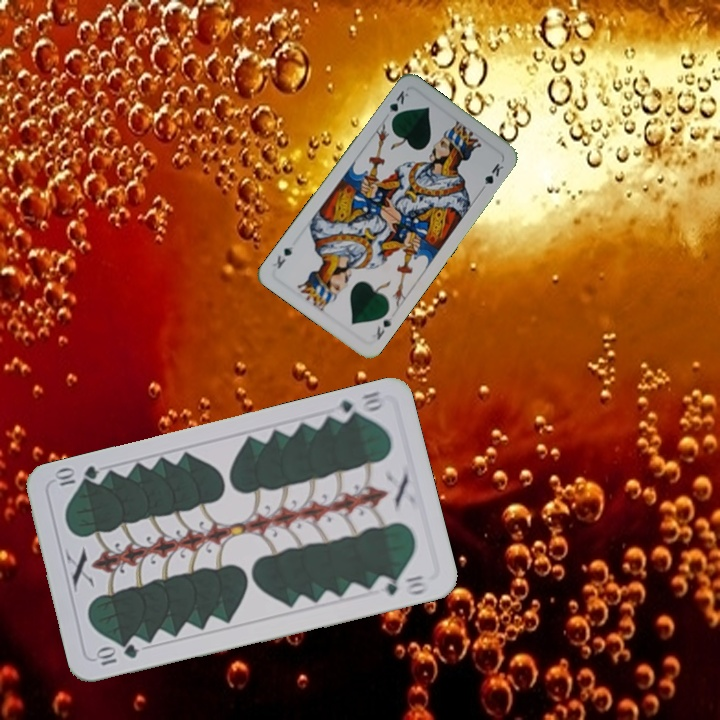G10: (328, 387, 387, 425), (92, 640, 141, 668)
GK: (383, 86, 411, 124), (367, 314, 395, 343)
